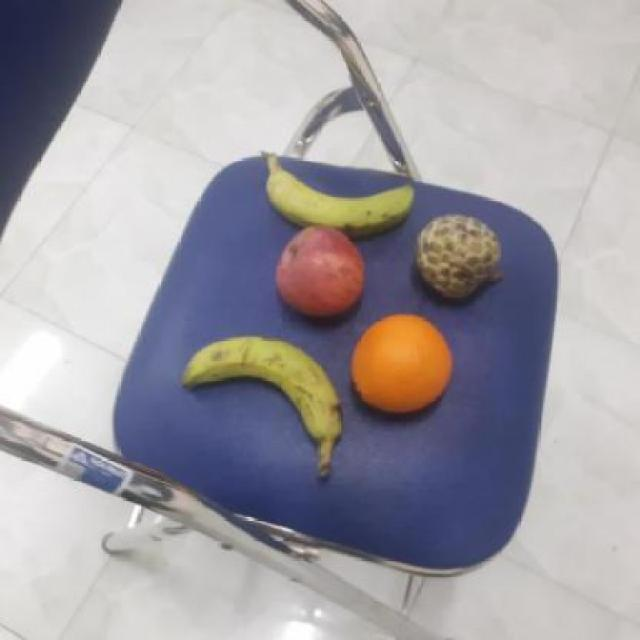apple: (270, 226, 368, 316)
banana: (180, 332, 346, 440), (263, 166, 414, 237)
oren: (349, 313, 460, 418)
sugar apple: (410, 213, 504, 299)
